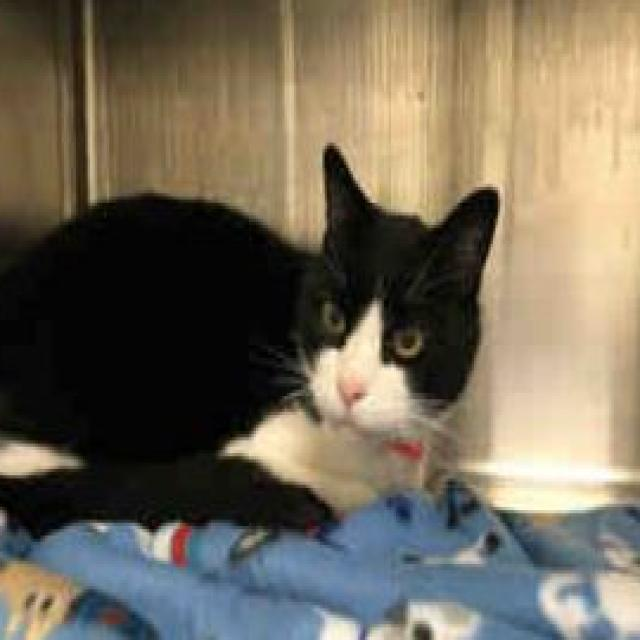Tuxedo: (0, 140, 503, 538)
